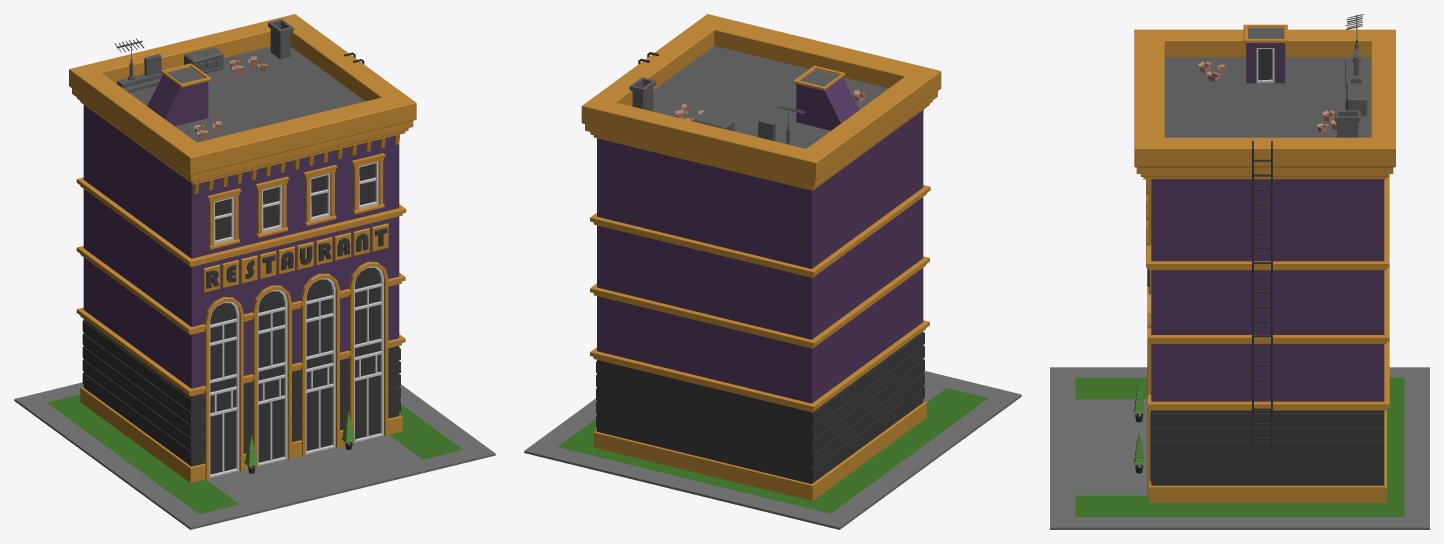
File: restaurant.glb
The picture shows the model from 3 angles, left to right: view 1: azimuth 30°, elevation 25°; view 2: azimuth 150°, elevation 25°; view 3: azimuth 270°, elevation 25°; orthographic projection. The views are drawn at different scales.
Visible parts, largest first — view 1: restaurant; view 2: restaurant; view 3: restaurant.
Boxes of the visible parts, bbox=[...] form: restaurant: bbox=[14, 14, 495, 529]; restaurant: bbox=[524, 14, 1021, 529]; restaurant: bbox=[1050, 14, 1429, 529].
Size of the model in its own units: 15 by 17.09 by 15.
1 material, 1 textured.
